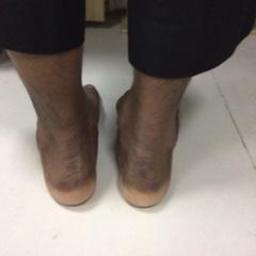Back View -Both Feet-: (16, 66, 197, 228)
